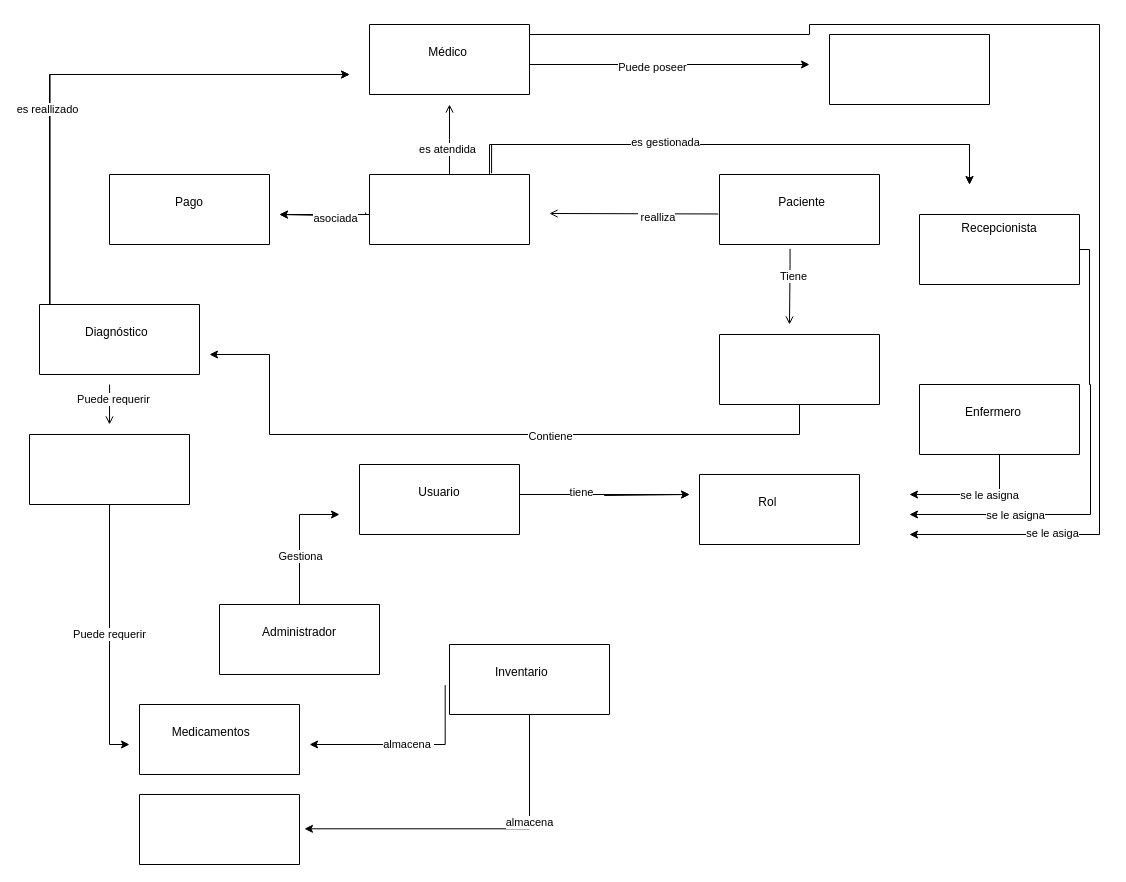
The diagram is 1126 pixels wide and 882 high, and some of its shapes have lost their labels. Here are the shapes that lost their labels. From the top down, the centre of each, then its label:
the point at 909,69: Especialidad
the point at 449,209: Cita
the point at 799,369: Historial Médico
the point at 109,469: Tratamiento
the point at 219,829: Equipo médico
